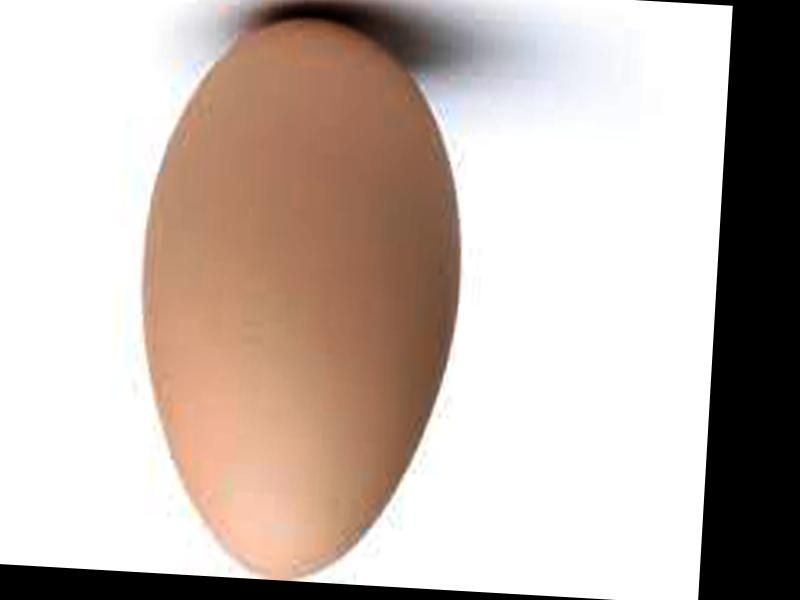Eggs: (128, 4, 474, 585)
